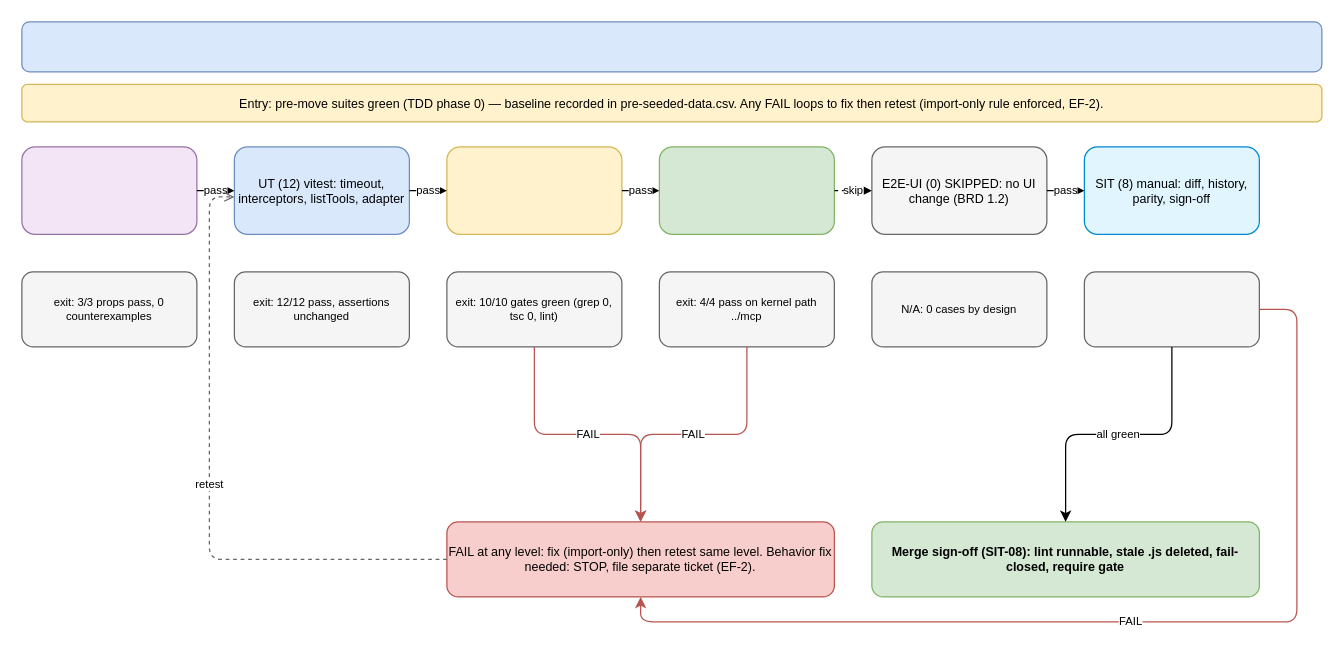
Image size: 1344x654. Some labels were removed from this diagram. The centre of each missing label's shape, as x and y in pixels:
"E2E-API (4) vitest e2e: kernel bridge, Pi hang, search" goes at (x=746, y=190).
"exit: 8/8 signed, diff EMPTY, history kept" goes at (x=1171, y=309).
"IT (10) gates: grep 0, tsc 0, lint, scan, cycle" goes at (x=534, y=190).
"PBT (3) fast-check: interceptor, clone, timeout race" goes at (x=109, y=190).
"SA4E-332 Test Execution Flow — PBT to UT to IT to E2E-API to SIT to Merge" goes at (x=671, y=46).
